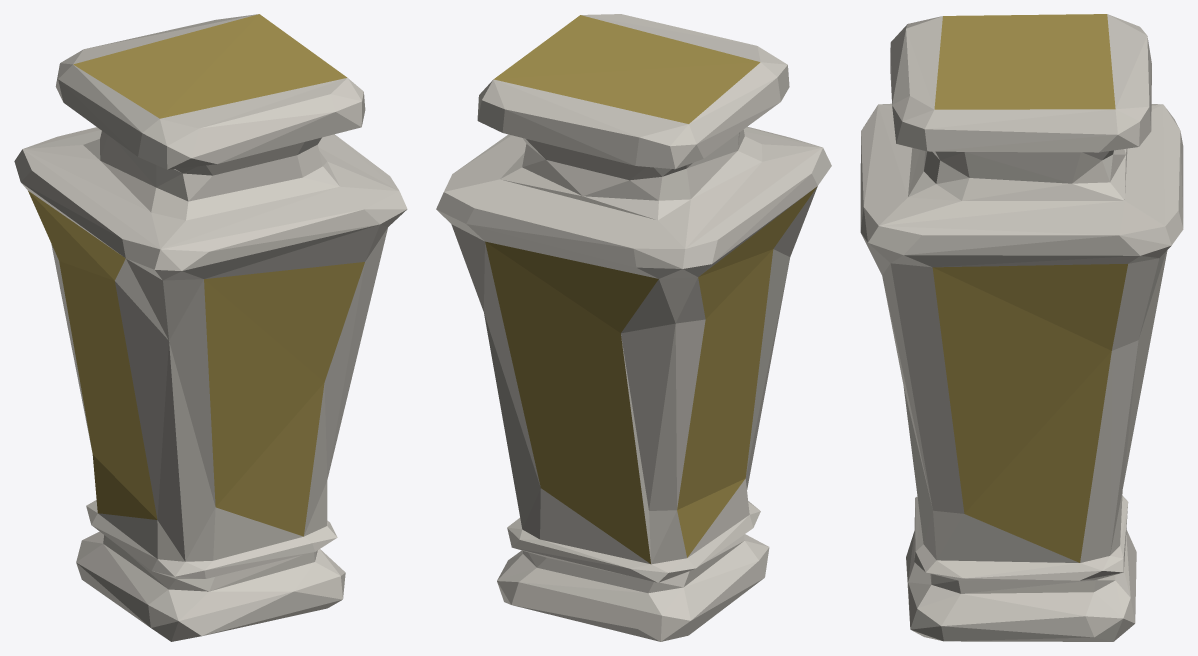
Rendered from pedestal final nivel 1 .fbx.
3 renders of one model, left to right at view 1: azimuth 30°, elevation 25°; view 2: azimuth 150°, elevation 25°; view 3: azimuth 270°, elevation 25°, orthographic. The views are drawn at different scales.
Parts seen in each view (by area): view 1: pedestal; view 2: pedestal; view 3: pedestal.
Boxes of the visible parts, box(x1,y1,x2,y2) form: pedestal: box(14, 14, 407, 641); pedestal: box(436, 14, 831, 641); pedestal: box(860, 14, 1183, 641).
Bounding box in the file's own units: 70.53 × 132 × 70.92.
